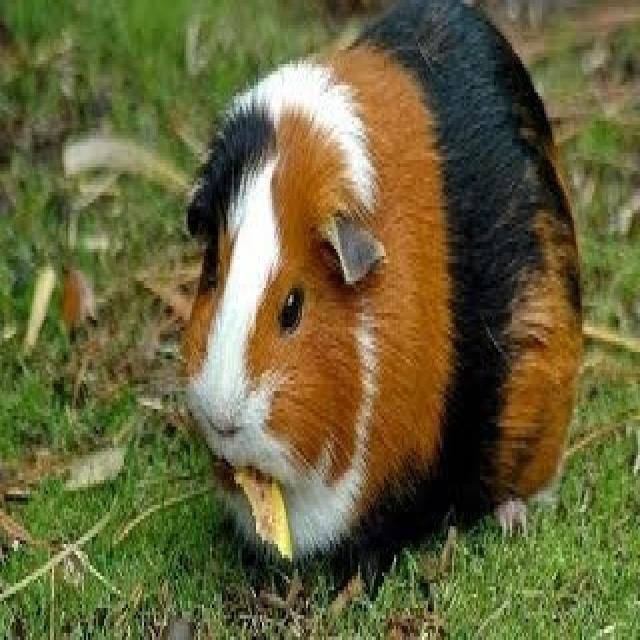guinea pig: (179, 0, 581, 563)
